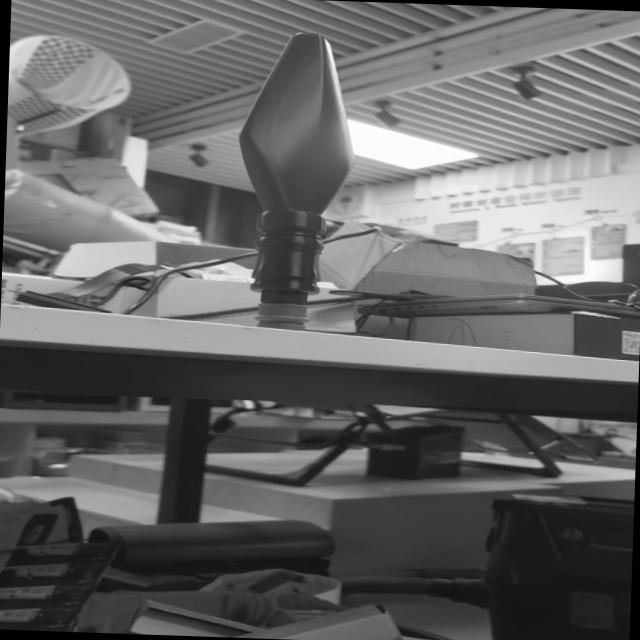base: (254, 300, 314, 331)
